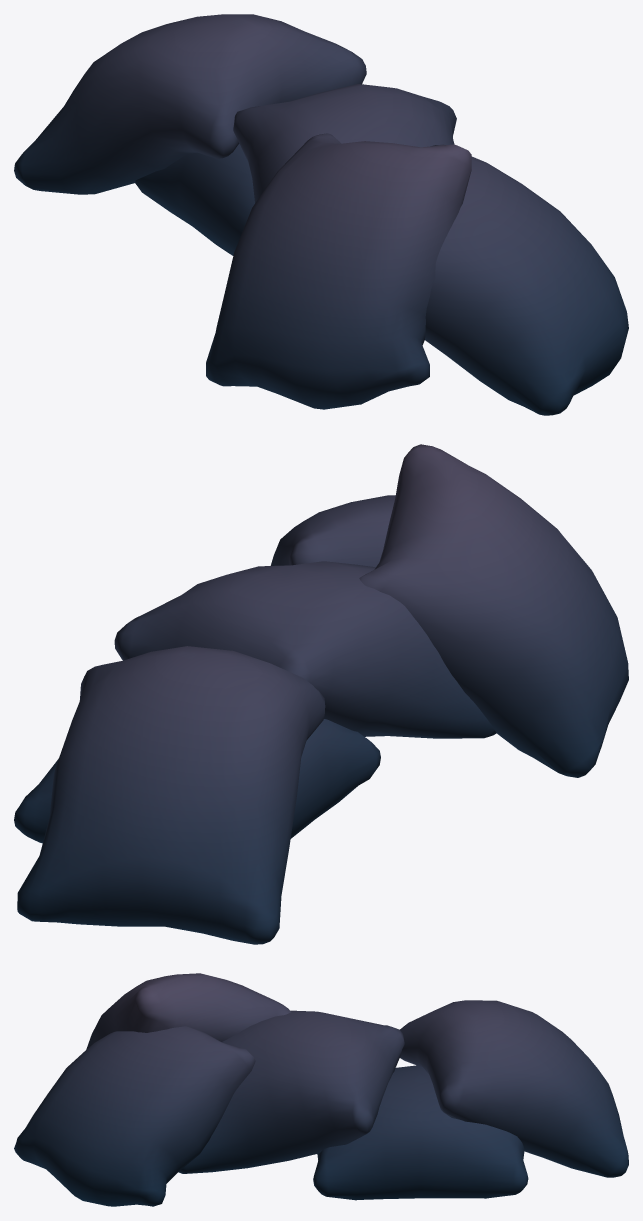
The model's file is Mesh_SandBags_01.gltf.
3 renders of one model, top to bottom at view 1: azimuth 30°, elevation 25°; view 2: azimuth 150°, elevation 25°; view 3: azimuth 270°, elevation 25°, orthographic. The views are drawn at different scales.
Parts seen in each view (by area): view 1: SandBags_01; view 2: SandBags_01; view 3: SandBags_01.
Boxes of the visible parts, x1,y1,x2,y2 form: SandBags_01: (14,14,628,415); SandBags_01: (14,444,628,944); SandBags_01: (14,973,628,1206).
Size of the model in its own units: 1.37 by 0.8921 by 2.73.
